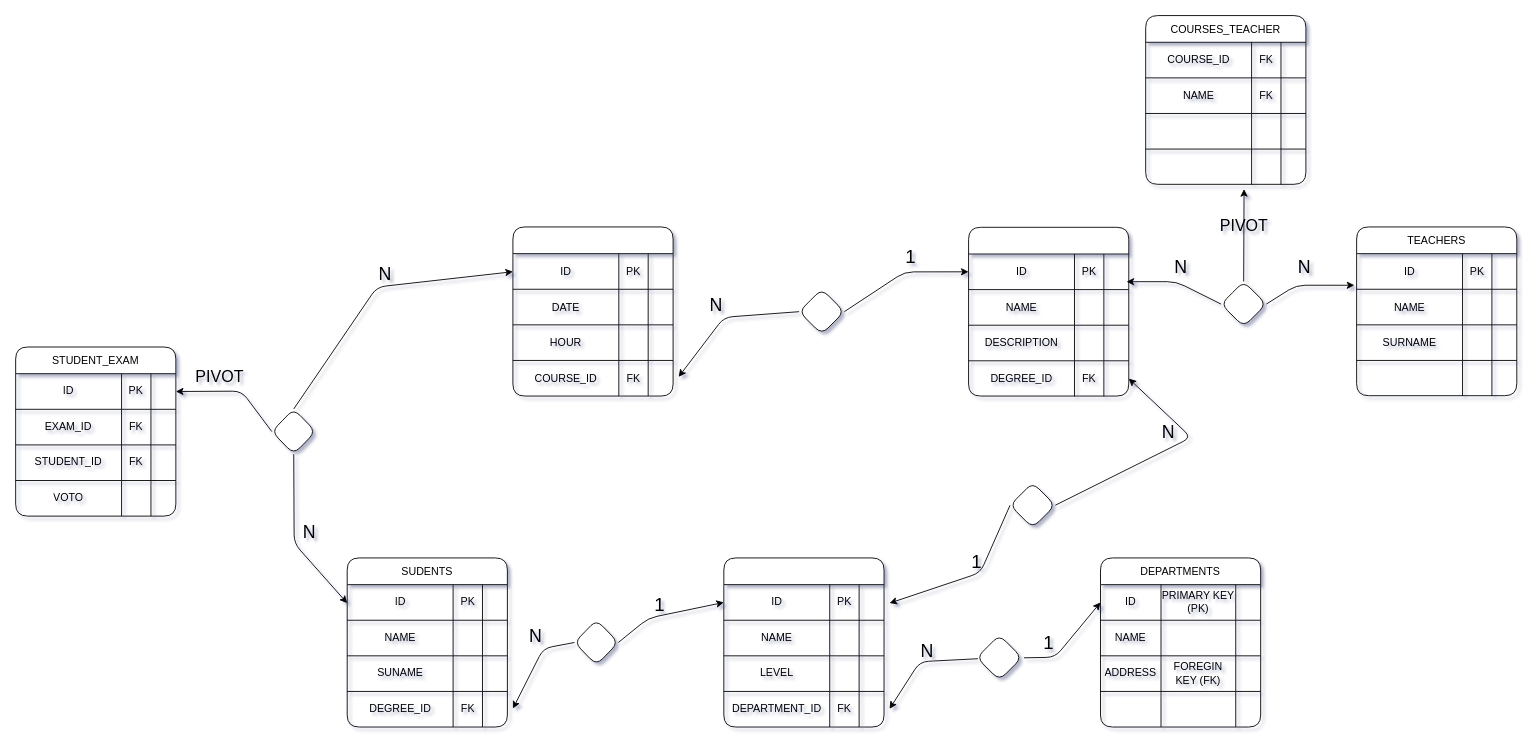
The diagram is 1538 pixels wide and 748 high, and some of its shapes have lost their labels. The box of each missing label's shape, as (x1, y1, x2, y2) in pixels:
COURSES: (968, 226, 1129, 396)
DEGREES: (723, 557, 884, 727)
EXAMS: (512, 226, 673, 396)
